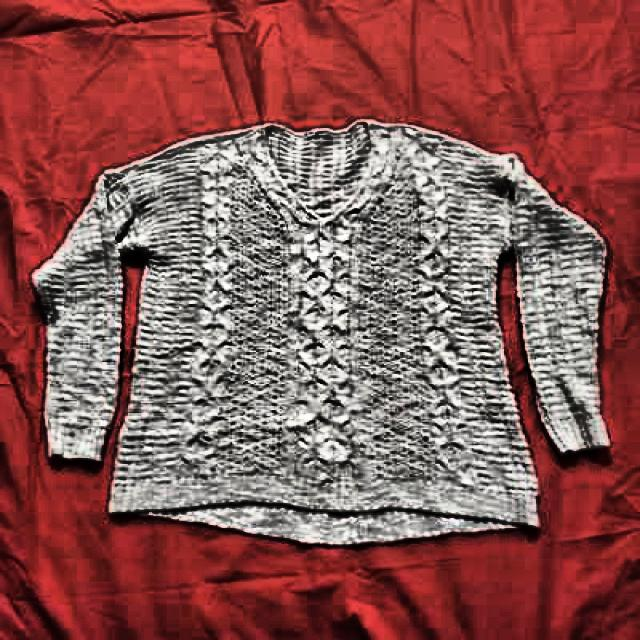clothes: (45, 113, 615, 544)
